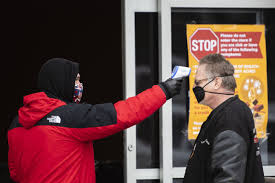Caution: (7, 53, 263, 183)
